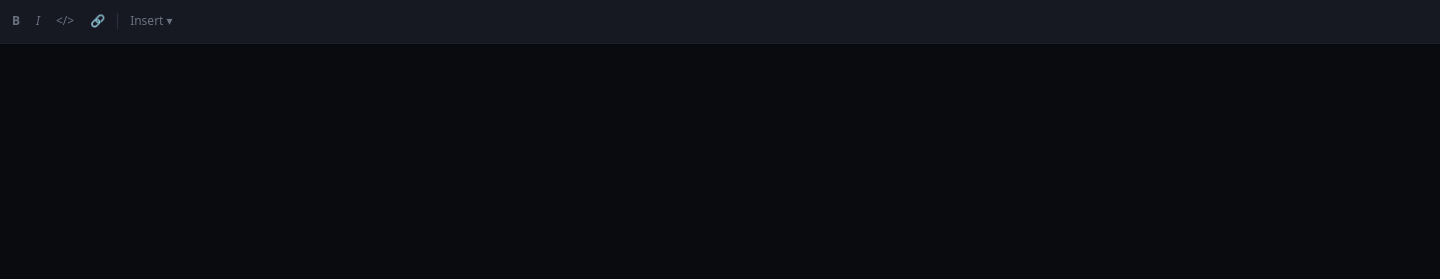
Test case: EditorToolbar › closes the Insert menu after a block pick
Click the button "Insert ▾".
click(151, 21)  # box [126,8,176,35]
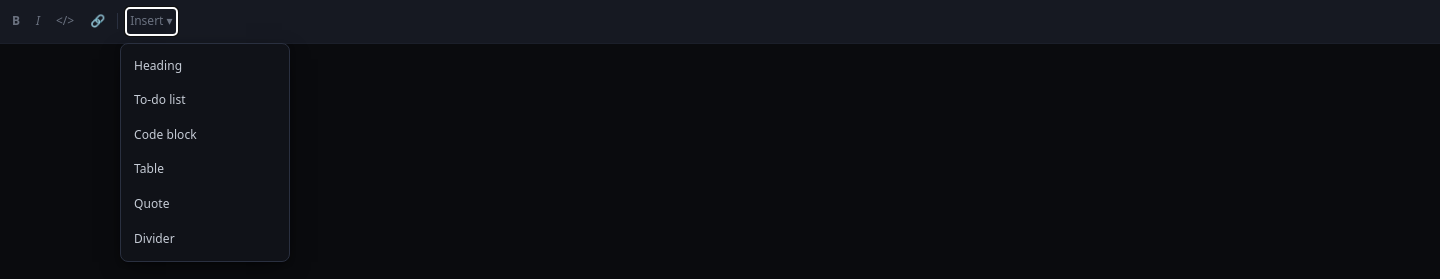
Now the menu is shown, box [120,43,290,262]
Click the menu item "Code block".
click(165, 134)  # box [134,126,197,143]
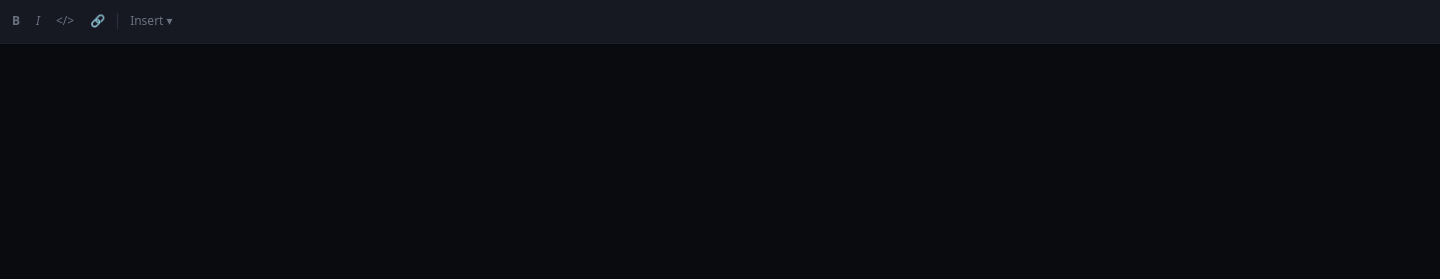
Now the menu is gone
